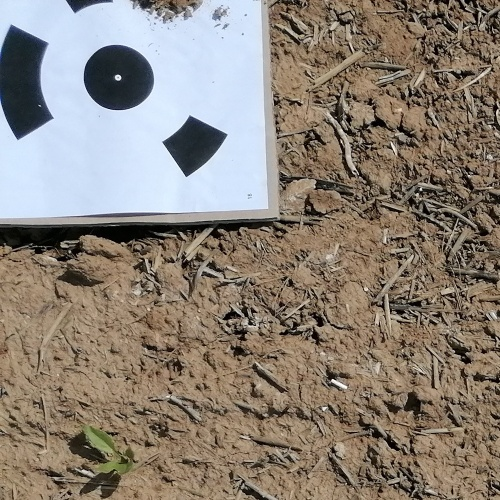beet: (83, 425, 135, 478)
